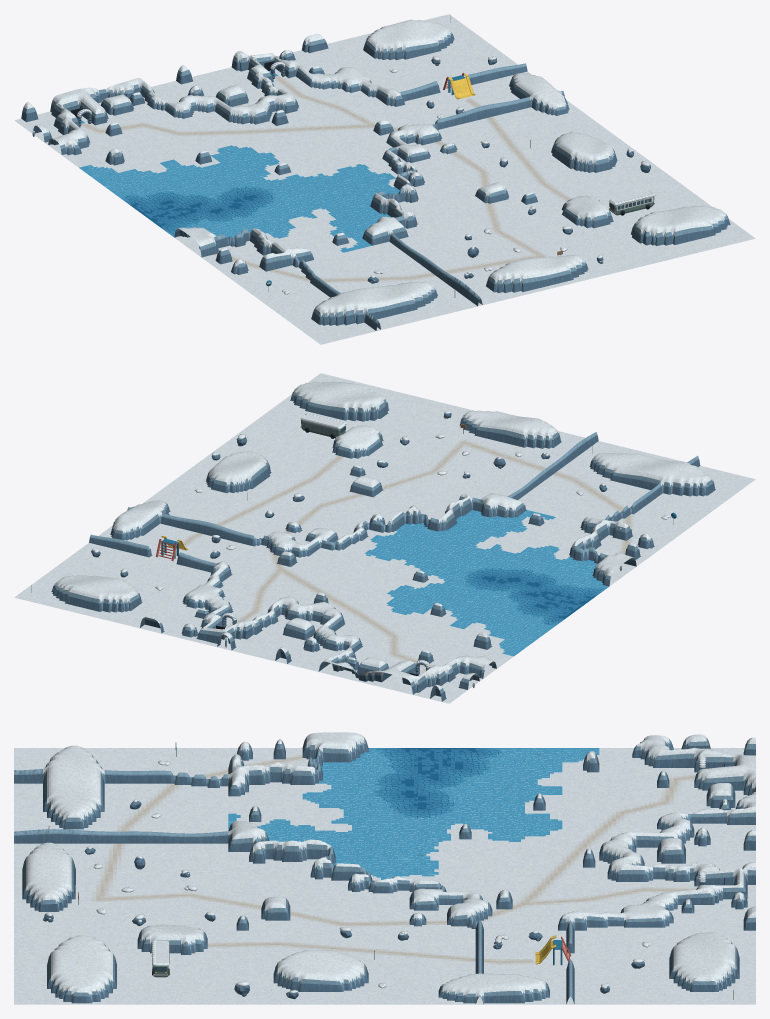
The model's file is terrain-props.glb.
The picture shows the model from 3 angles, top to bottom: view 1: azimuth 30°, elevation 25°; view 2: azimuth 150°, elevation 25°; view 3: azimuth 270°, elevation 25°; orthographic projection. The views are drawn at different scales.
Parts seen in each view (by area): view 1: hm13-snow-chunk-4-3, hm13-snow-chunk-2-1, hm13-snow-chunk-3-4, hm13-snow-chunk-4-0, hm13-snow-chunk-3-3, hm13-ice-chunk-1-2, hm13-snow-chunk-3-1, hm13-snow-chunk-1-0, hm13-snow-chunk-4-2, hm13-ice-chunk-0-2, hm13-snow-chunk-0-0, hm13-snow-chunk-1-4 (+53 smaller); view 2: hm13-snow-chunk-4-3, hm13-snow-chunk-3-4, hm13-snow-chunk-1-4, hm13-snow-chunk-3-1, hm13-ice-chunk-0-2, hm13-ice-chunk-1-2, hm13-snow-chunk-4-4, hm13-snow-chunk-4-0, hm13-snow-chunk-3-3, hm13-snow-chunk-2-0, hm13-snow-chunk-2-4, hm13-snow-chunk-0-4 (+46 smaller); view 3: hm13-snow-chunk-3-4, hm13-snow-chunk-4-2, hm13-ice-chunk-1-2, hm13-snow-chunk-2-1, hm13-snow-chunk-3-3, hm13-ice-chunk-0-2, hm13-snow-chunk-2-4, hm13-snow-chunk-4-4, hm13-snow-chunk-4-1, hm13-snow-chunk-3-1, hm13-snow-chunk-1-4, hm13-snow-chunk-4-0 (+55 smaller).
Part boxes in pixels (x1,y1,x2,y2): hm13-snow-chunk-4-3: [487, 134, 618, 204]; hm13-snow-chunk-2-1: [223, 94, 354, 161]; hm13-snow-chunk-3-4: [464, 204, 595, 260]; hm13-snow-chunk-4-0: [327, 19, 454, 84]; hm13-snow-chunk-3-3: [411, 164, 541, 223]; hm13-ice-chunk-1-2: [201, 162, 331, 220]; hm13-snow-chunk-3-1: [301, 80, 431, 143]; hm13-snow-chunk-1-0: [91, 78, 222, 141]; hm13-snow-chunk-4-2: [434, 110, 563, 164]; hm13-ice-chunk-0-2: [123, 181, 254, 237]; hm13-snow-chunk-0-0: [14, 87, 145, 160]; hm13-snow-chunk-1-4: [310, 242, 440, 290]; hm13-snow-chunk-4-3: [226, 450, 352, 508]; hm13-snow-chunk-3-4: [361, 429, 489, 487]; hm13-snow-chunk-1-4: [520, 466, 644, 523]; hm13-snow-chunk-3-1: [194, 548, 325, 606]; hm13-ice-chunk-0-2: [481, 565, 608, 623]; hm13-ice-chunk-1-2: [404, 546, 535, 604]; hm13-snow-chunk-4-4: [281, 397, 411, 467]; hm13-snow-chunk-4-0: [62, 568, 193, 628]; hm13-snow-chunk-3-3: [303, 464, 434, 523]; hm13-snow-chunk-2-0: [217, 598, 348, 665]; hm13-snow-chunk-2-4: [435, 447, 566, 500]; hm13-snow-chunk-0-4: [599, 472, 721, 543]; hm13-snow-chunk-3-4: [96, 885, 228, 930]; hm13-snow-chunk-4-2: [360, 930, 492, 976]; hm13-ice-chunk-1-2: [359, 793, 492, 839]; hm13-snow-chunk-2-1: [492, 833, 623, 884]; hm13-snow-chunk-3-3: [228, 873, 360, 930]; hm13-ice-chunk-0-2: [359, 748, 494, 793]; hm13-snow-chunk-2-4: [93, 843, 228, 884]; hm13-snow-chunk-4-4: [96, 924, 228, 976]; hm13-snow-chunk-4-1: [492, 930, 623, 976]; hm13-snow-chunk-3-1: [492, 885, 623, 930]; hm13-snow-chunk-1-4: [96, 778, 228, 833]; hm13-snow-chunk-4-0: [624, 930, 755, 976].
Size of the model in its own units: 64.51 by 2.5 by 78.13.
Materials: 4 (4 with a texture image).
